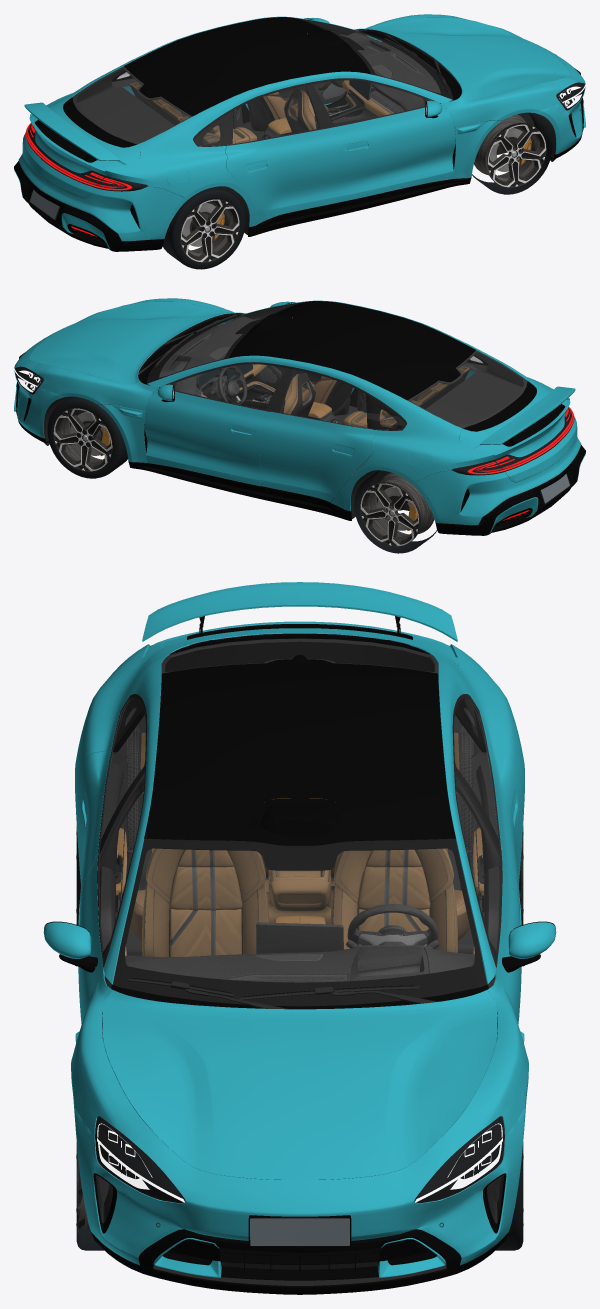
File: su7-debadged.glb
3 renders of one model, top to bottom at view 1: azimuth 30°, elevation 25°; view 2: azimuth 150°, elevation 25°; view 3: azimuth 270°, elevation 25°, orthographic. The views are drawn at different scales.
Parts seen in each view (by area): view 1: OUTSIDE_6, DOOR3_10, DOOR4_11, Object_4, su7_wheel_FL_rim, INSIDE_3, su7_wheel_RL_rim, polySurface116_7, su7_wheel_RL_tire, su7_wheel_FL_tire, DOOR1_8, logo3_4; view 2: OUTSIDE_6, DOOR1_8, DOOR2_9, Object_4, su7_wheel_RR_rim, INSIDE_3, su7_wheel_FR_rim, polySurface116_7, su7_wheel_FR_tire, su7_wheel_RR_tire, DOOR3_10, logo3_4 (+1 smaller); view 3: OUTSIDE_6, INSIDE_3, Object_4, DOOR3_10, DOOR1_8, DOOR2_9, DOOR4_11, polySurface116_7, logo3_4, Object_8, mesh_7_694.nr_5, Object_6 (+1 smaller).
Boxes of the visible parts, x1,y1,x2,y2 form: OUTSIDE_6: (14, 14, 585, 251); DOOR3_10: (313, 80, 455, 202); DOOR4_11: (225, 86, 340, 218); Object_4: (261, 32, 440, 139); su7_wheel_FL_rim: (474, 114, 546, 187); INSIDE_3: (130, 82, 328, 144); su7_wheel_RL_rim: (180, 199, 239, 262); polySurface116_7: (76, 20, 455, 198); su7_wheel_RL_tire: (162, 186, 245, 269); su7_wheel_FL_tire: (472, 112, 552, 194); DOOR1_8: (245, 18, 346, 110); logo3_4: (30, 190, 58, 219); OUTSIDE_6: (14, 298, 585, 535); DOOR1_8: (144, 364, 286, 486); DOOR2_9: (259, 370, 374, 502); Object_4: (159, 316, 338, 423); su7_wheel_RR_rim: (360, 472, 434, 546); INSIDE_3: (283, 366, 470, 478); su7_wheel_FR_rim: (53, 408, 112, 471); polySurface116_7: (148, 304, 523, 501); su7_wheel_FR_tire: (47, 396, 127, 478); su7_wheel_RR_tire: (354, 470, 437, 553); DOOR3_10: (254, 301, 354, 394); logo3_4: (541, 474, 569, 503); OUTSIDE_6: (71, 582, 528, 1294); INSIDE_3: (130, 732, 469, 957); Object_4: (95, 904, 474, 982); DOOR3_10: (43, 777, 144, 1024); DOOR1_8: (455, 777, 556, 1024); DOOR2_9: (454, 710, 522, 919); DOOR4_11: (77, 710, 145, 919); polySurface116_7: (99, 653, 500, 1038); logo3_4: (250, 1218, 349, 1245); Object_8: (118, 726, 481, 905); mesh_7_694.nr_5: (128, 977, 437, 1009); Object_6: (170, 849, 421, 955).
Bounding box in the file's own units: 5.24 × 1.46 × 2.2.
Materials: 21 (5 with a texture image).
